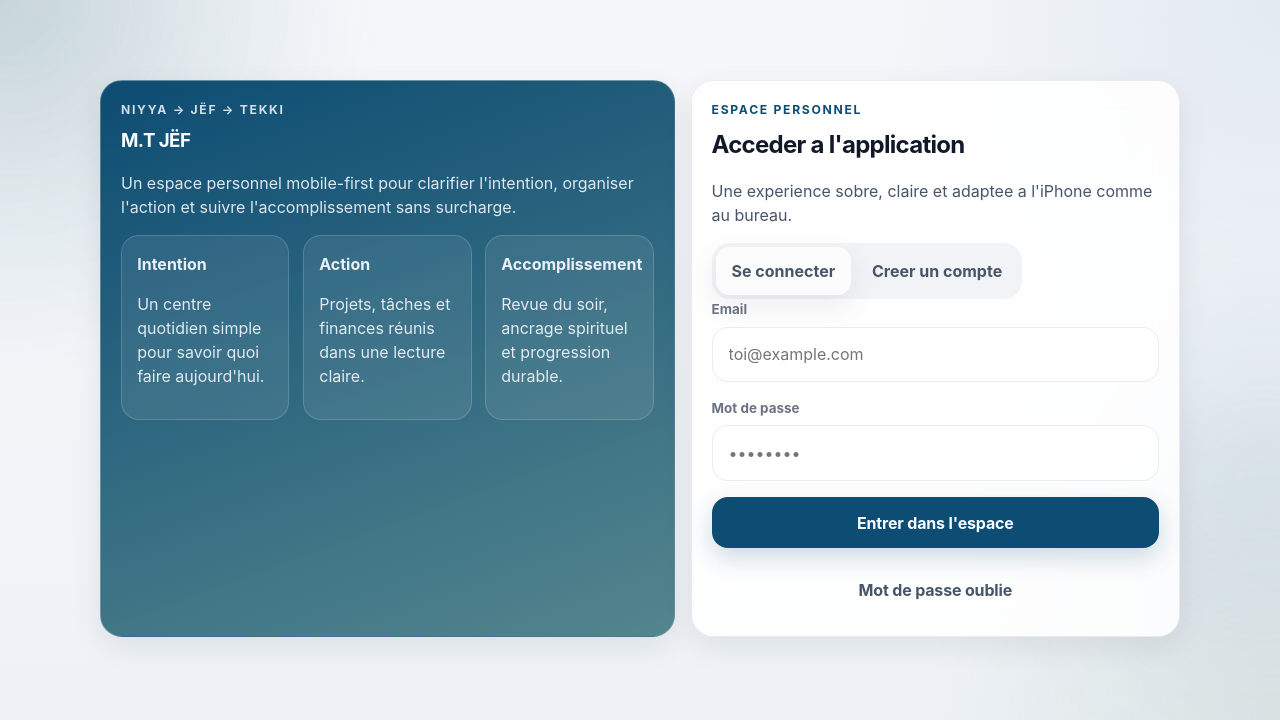
Scenario: AuthScreen › appelle signInWithPassword pour la connexion
Type "  member@yopmail.com  " into the field labelled "Email" at point(935, 354), box [712, 327, 1159, 382]
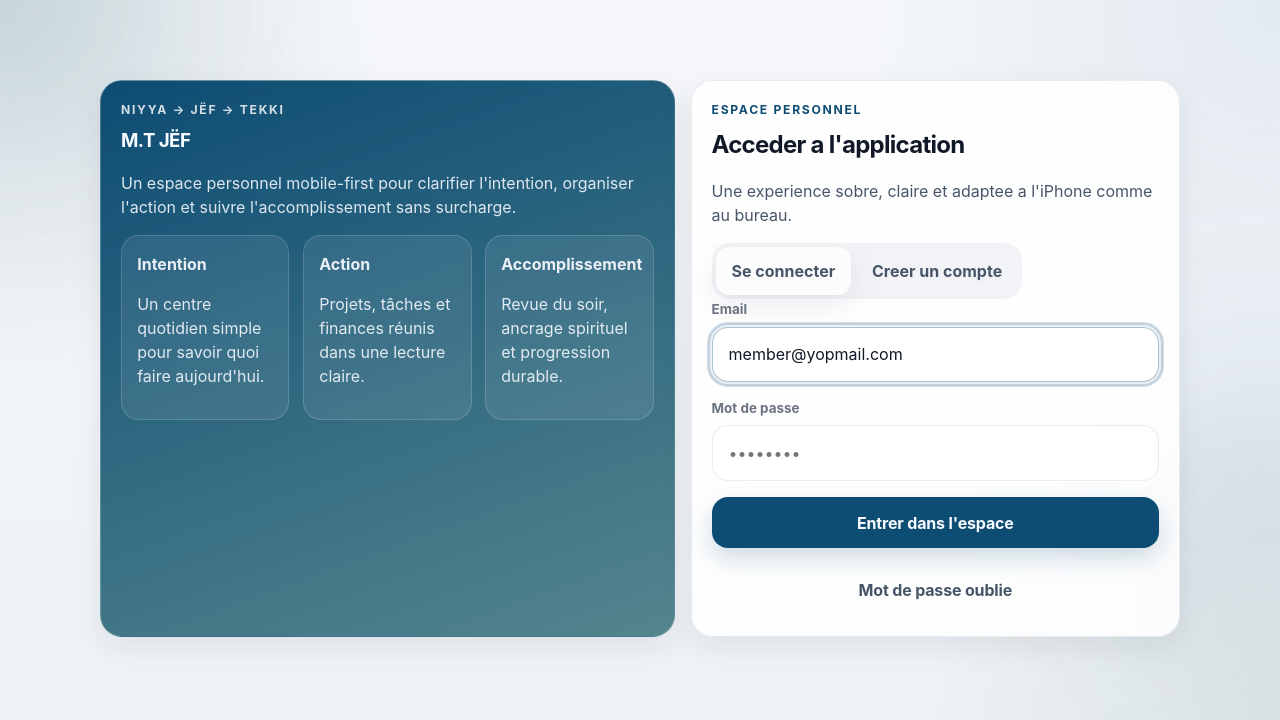
Type "MotDePasse123!" into the password field labelled "Mot de passe" at point(935, 453), box [712, 425, 1159, 481]
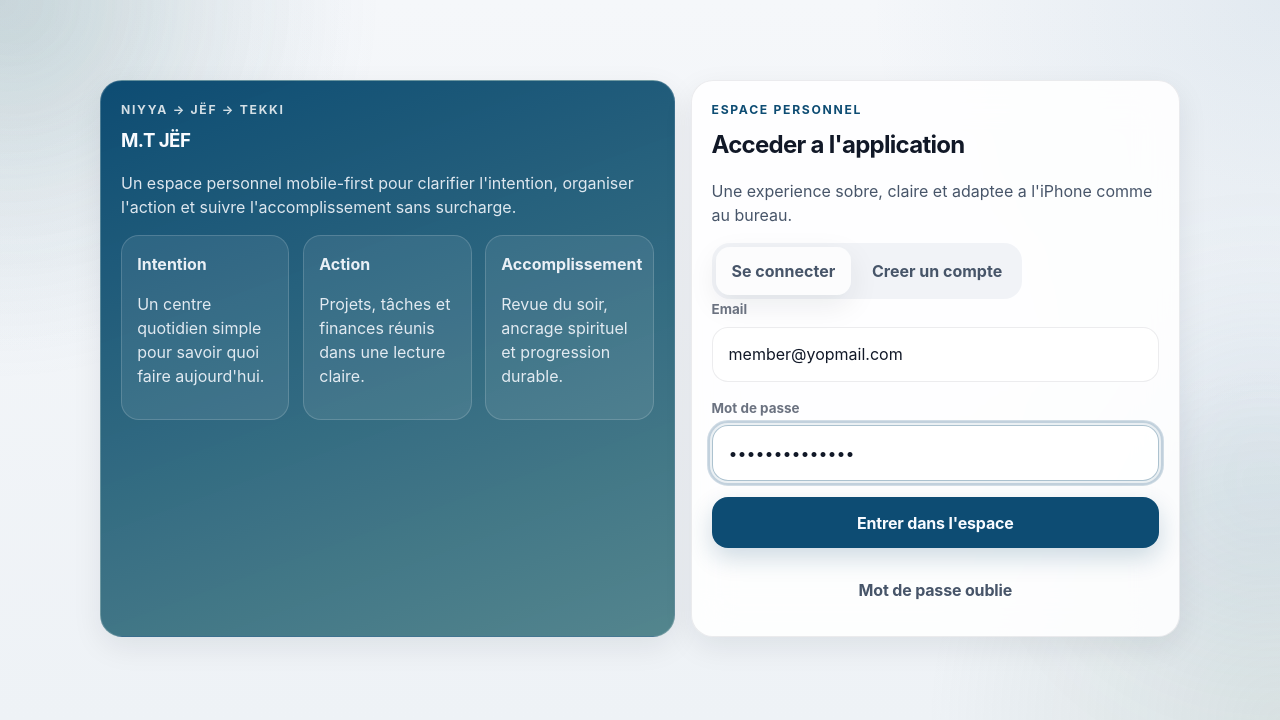
Click the button "Entrer dans l'espace" at point(935, 523), box [712, 497, 1159, 548]
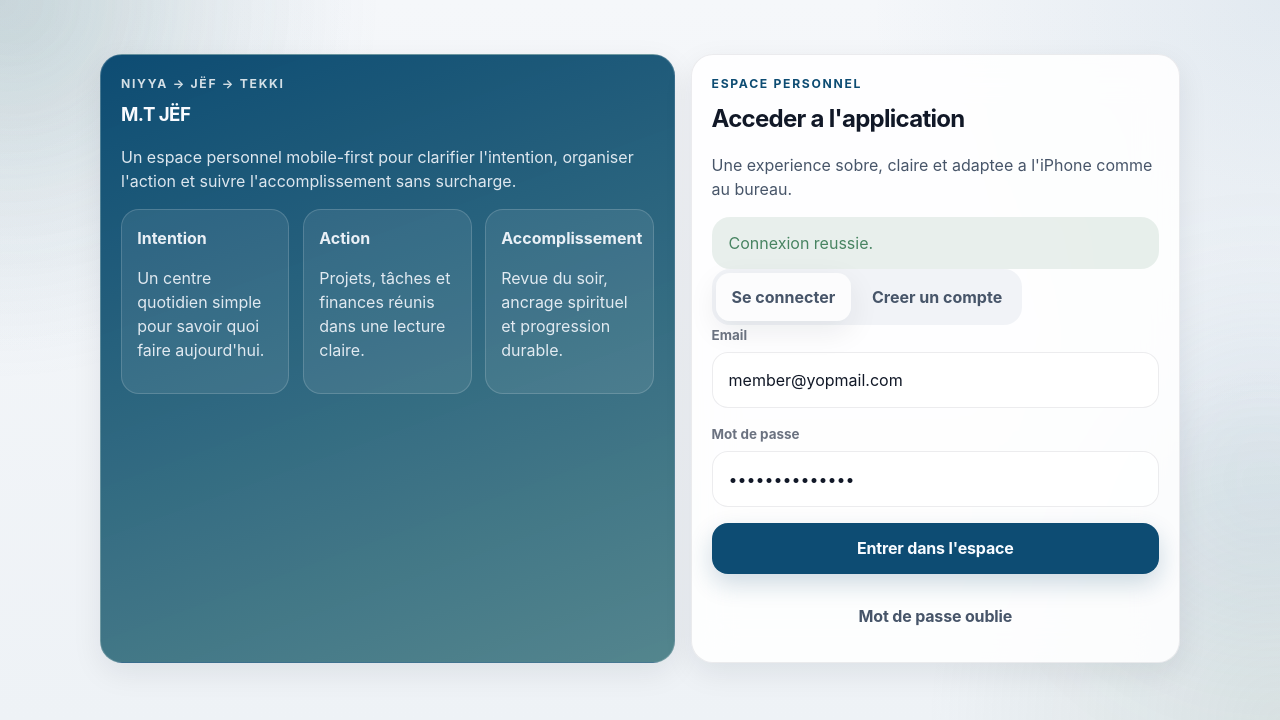
Result: the text "Connexion reussie." is shown at [712, 217, 1159, 269]
